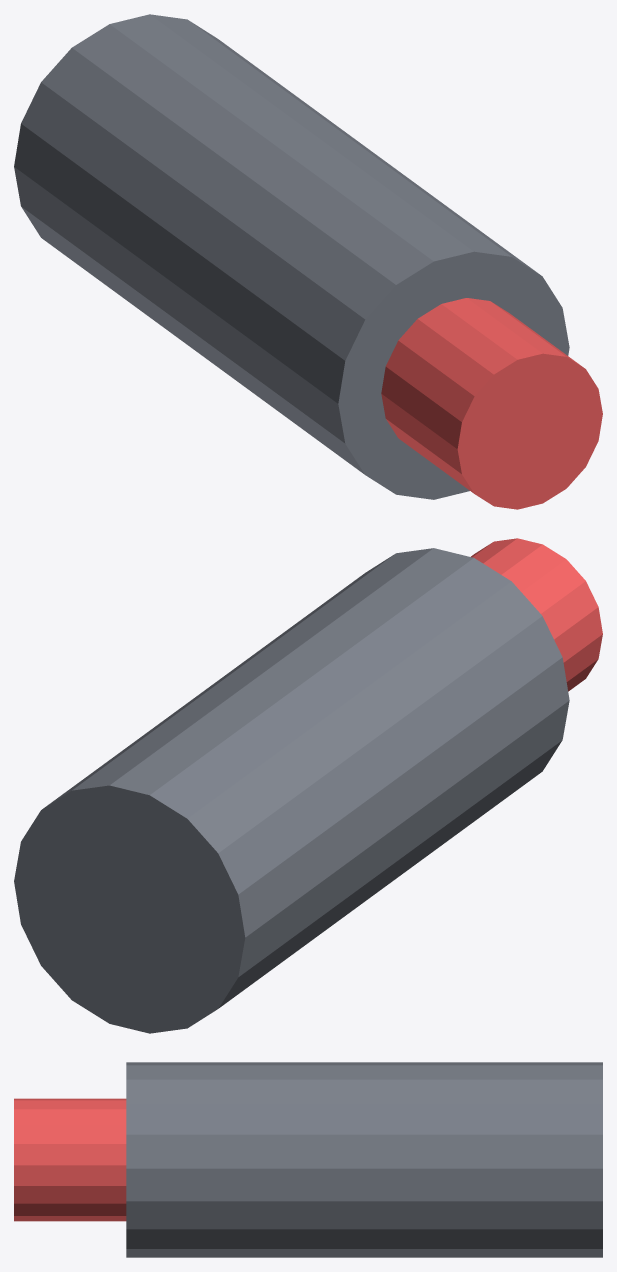
File: laser.glb
3 views of the same model, one above another, from view 1: azimuth 30°, elevation 25°; view 2: azimuth 150°, elevation 25°; view 3: azimuth 270°, elevation 25° (orthographic). The views are drawn at different scales.
Visible parts, largest first — view 1: laser; view 2: laser; view 3: laser.
Part boxes in pixels (x1=…): laser: x1=14, y1=14, x2=602, y2=509; laser: x1=14, y1=538, x2=602, y2=1033; laser: x1=14, y1=1062, x2=602, y2=1257.
Bounding box in the file's own units: 0.07 × 0.0689 × 0.21.
